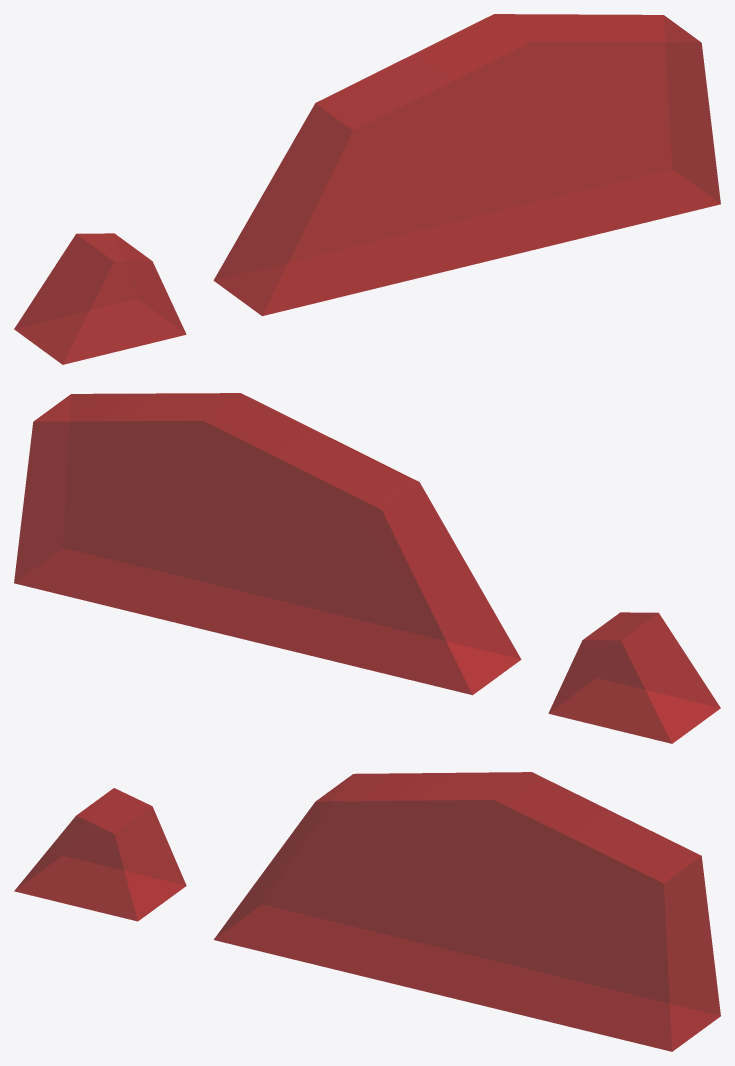
Rendered from SM_Prop_Stonewall_End_01_Collision.fbx.
3 views of the same model, one above another, from view 1: azimuth 30°, elevation 25°; view 2: azimuth 150°, elevation 25°; view 3: azimuth 330°, elevation 25° (orthographic).
Parts seen in each view (by area): view 1: SM_Prop_Stonewall_End_01_Collision; view 2: SM_Prop_Stonewall_End_01_Collision; view 3: SM_Prop_Stonewall_End_01_Collision.
Part boxes in pixels (left/top/right/bottom): SM_Prop_Stonewall_End_01_Collision: left=14, top=14, right=720, bottom=364; SM_Prop_Stonewall_End_01_Collision: left=14, top=393, right=720, bottom=743; SM_Prop_Stonewall_End_01_Collision: left=14, top=772, right=720, bottom=1051.
Size of the model in its own units: 385 by 114 by 49.4.
